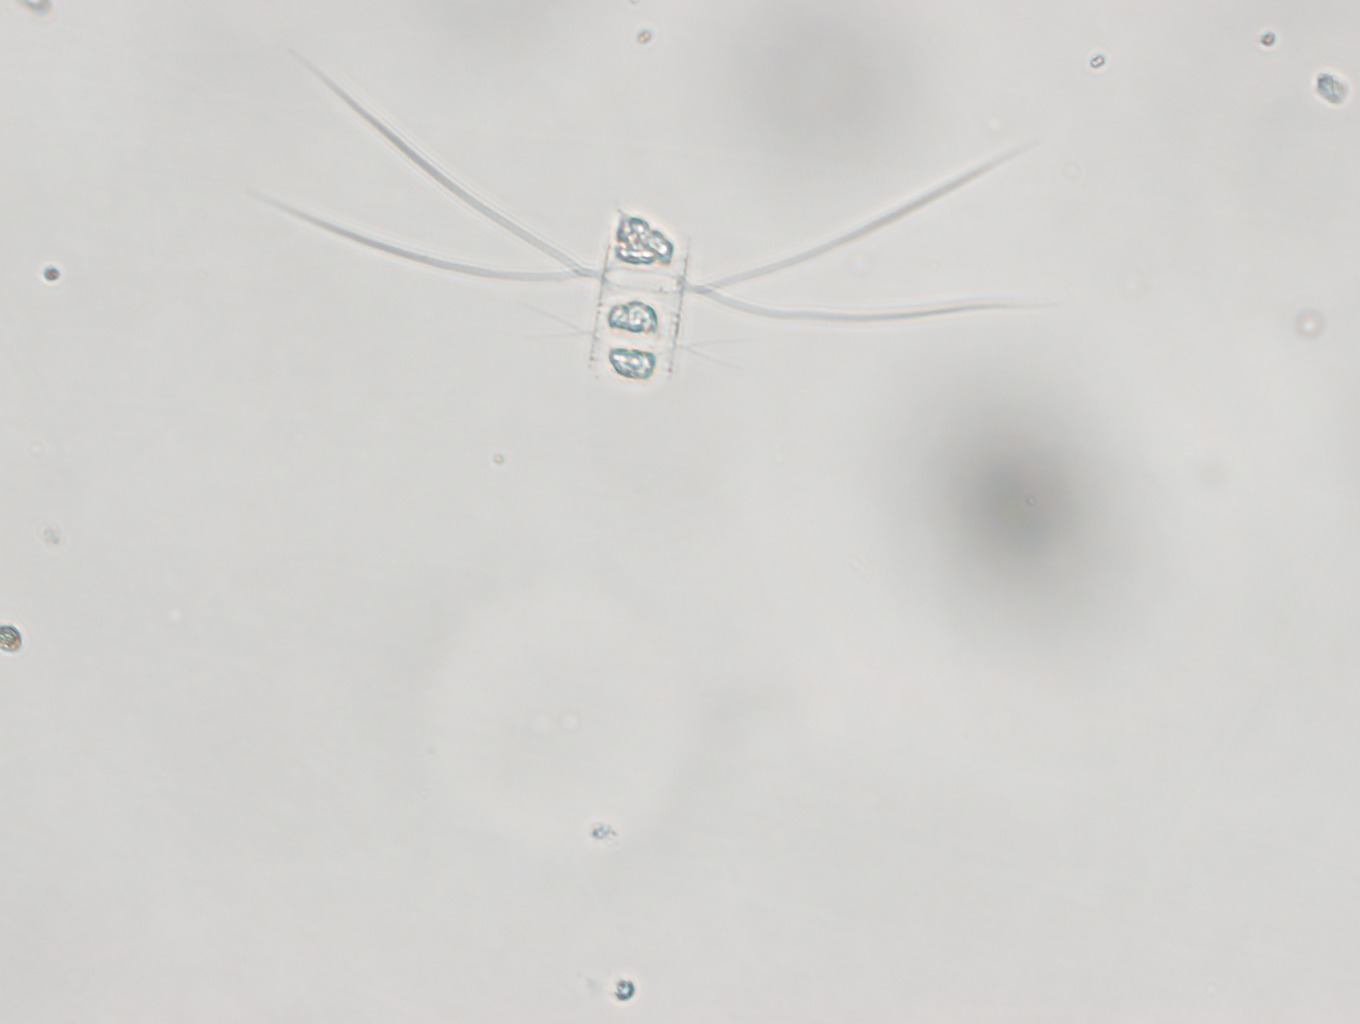chaetoceros: (232, 45, 1068, 399)
